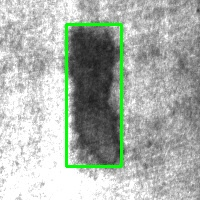patches: (66, 24, 121, 166)
